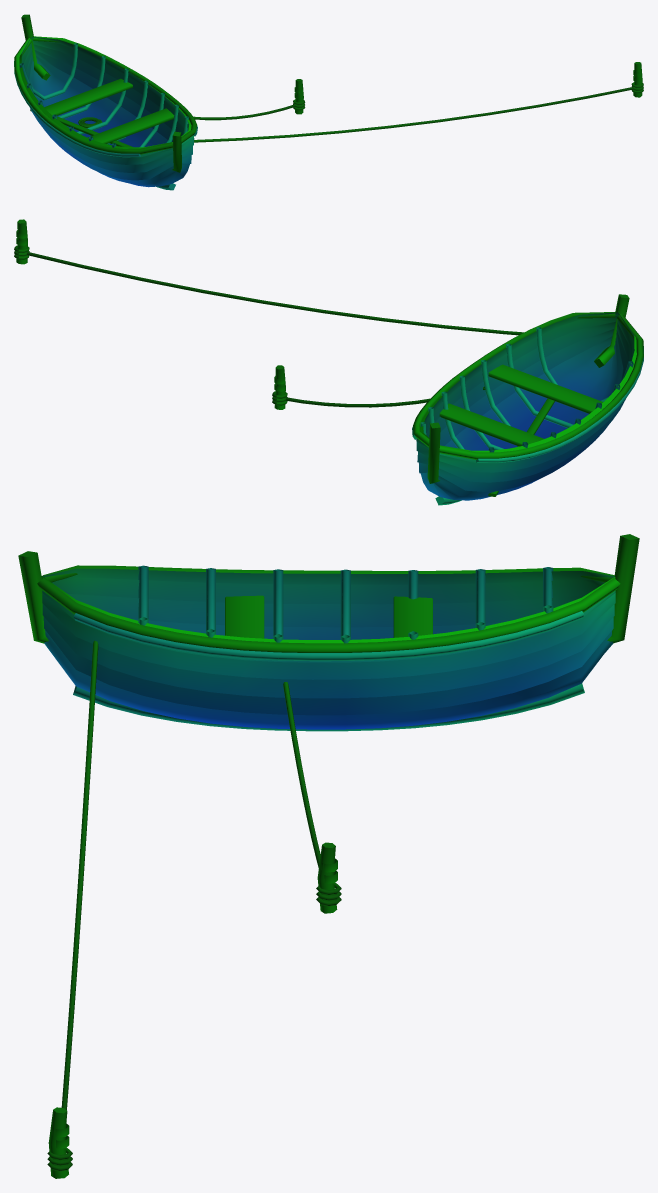
Rendered from hull_lashed.glb.
The picture shows the model from 3 angles, top to bottom: view 1: azimuth 30°, elevation 25°; view 2: azimuth 150°, elevation 25°; view 3: azimuth 270°, elevation 25°; orthographic projection. The views are drawn at different scales.
Parts seen in each view (by area): view 1: hull_lashed; view 2: hull_lashed; view 3: hull_lashed.
Boxes of the visible parts, bbox=[...] form: hull_lashed: bbox=[14, 14, 643, 190]; hull_lashed: bbox=[14, 219, 643, 505]; hull_lashed: bbox=[18, 534, 639, 1178].
Size of what is drawn, in the model's own units: 6.76 by 1.14 by 3.47.
